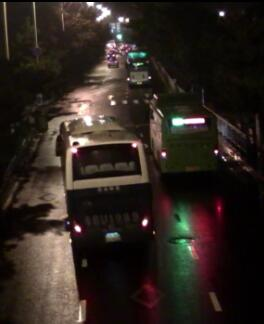bus: (53, 115, 154, 261), (151, 92, 219, 175), (124, 52, 151, 85)
car: (106, 53, 119, 68)
